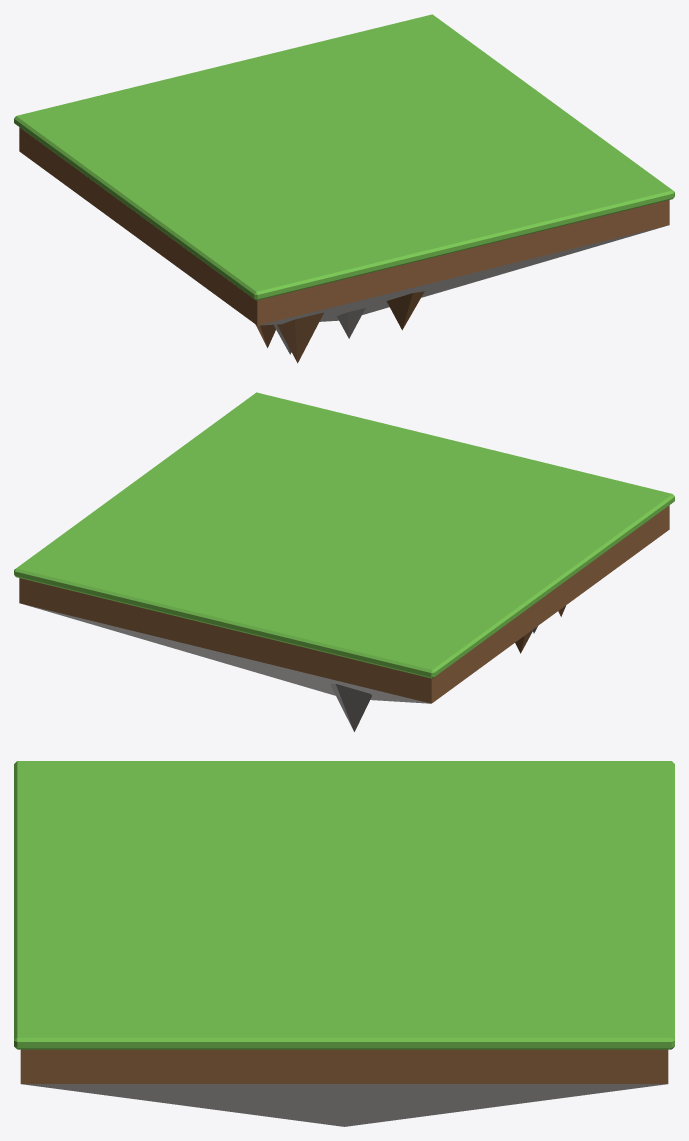
File: island.glb
3 views of the same model, one above another, from view 1: azimuth 30°, elevation 25°; view 2: azimuth 150°, elevation 25°; view 3: azimuth 270°, elevation 25° (orthographic). The views are drawn at different scales.
Parts seen in each view (by area): view 1: IslandMesh; view 2: IslandMesh; view 3: IslandMesh.
Part boxes in pixels (box(x1,y1,x2,y2)): IslandMesh: box(14, 14, 674, 363); IslandMesh: box(14, 392, 674, 731); IslandMesh: box(14, 761, 674, 1126).
Bounding box in the file's own units: 20 × 7.6 × 20.
